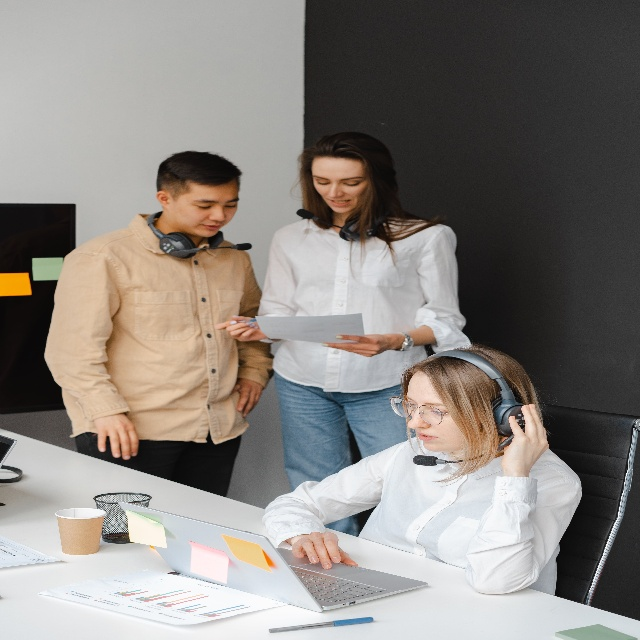Gafas: (388, 393, 450, 427)
Sin_guantes: (501, 404, 549, 476), (291, 530, 359, 570), (320, 326, 391, 361), (94, 410, 140, 462), (214, 312, 268, 342), (232, 375, 262, 421)
